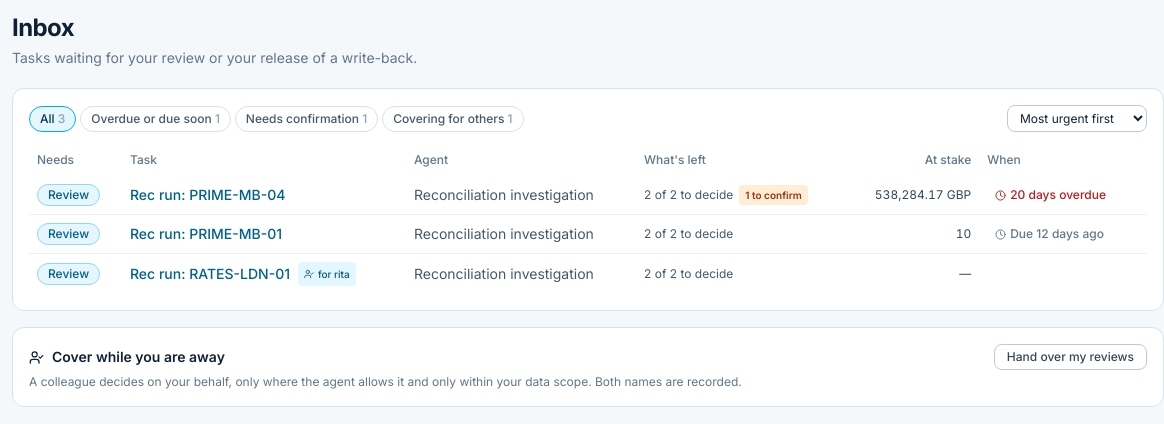
Test: Inbox › puts the most urgent first and filters to what needs confirmation
Expected: the links read "Rec run: PRIME-MB-04", "Rec run: PRIME-MB-01", "Rec run: RATES-LDN-01", in this order, [130, 186, 285, 203]; [130, 225, 282, 242]; [130, 265, 290, 282]
Expected: the text "538,284.17 GBP" is shown, [847, 176, 979, 214]
Click the button "Needs confirmation 1": (307, 118) [235, 106, 378, 132]
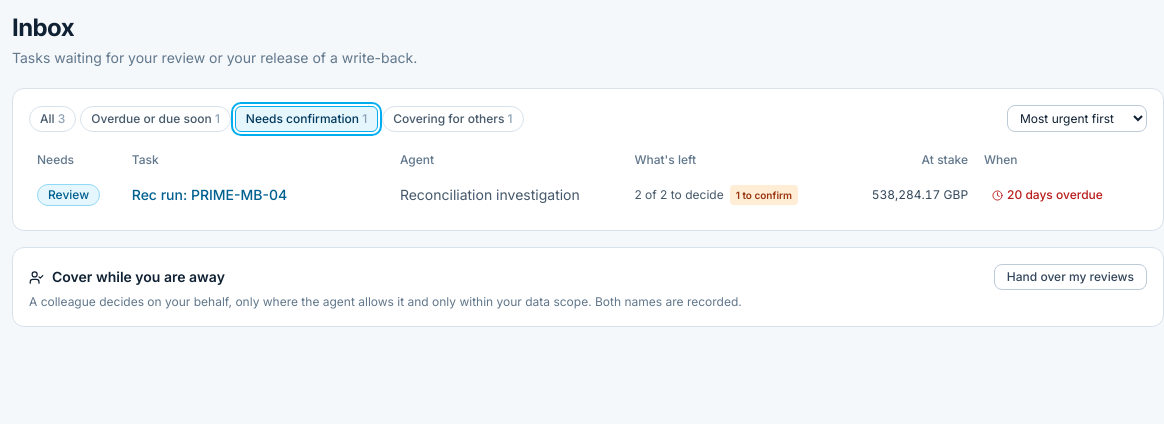
Expected: the links read "Rec run: PRIME-MB-04", in this order, [132, 186, 287, 203]
